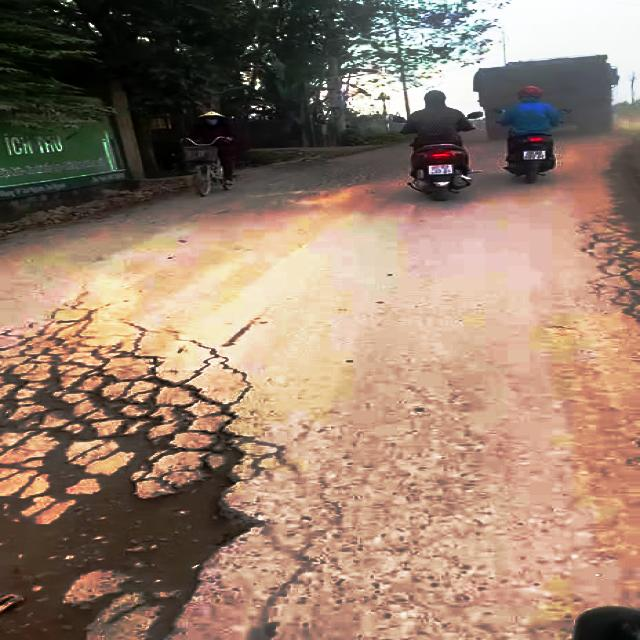pothole: (0, 333, 298, 640)
